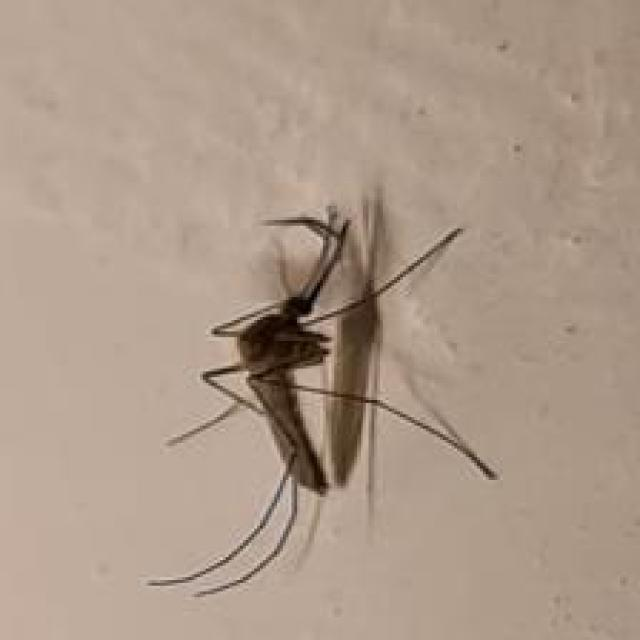Culex: (146, 187, 500, 599)
